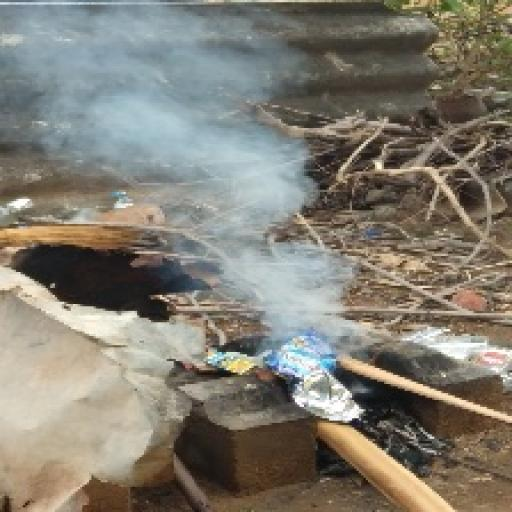fire and smoke: (12, 5, 349, 335)
